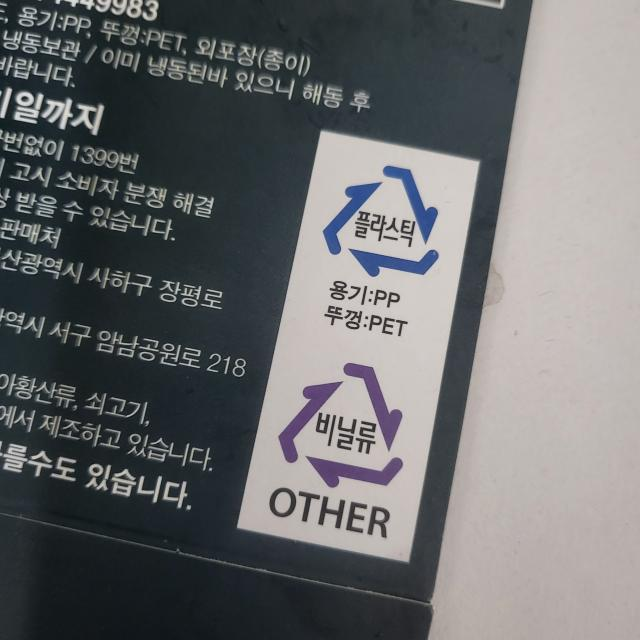Plastic: (320, 162, 444, 280)
Vinyl: (276, 354, 415, 489)
